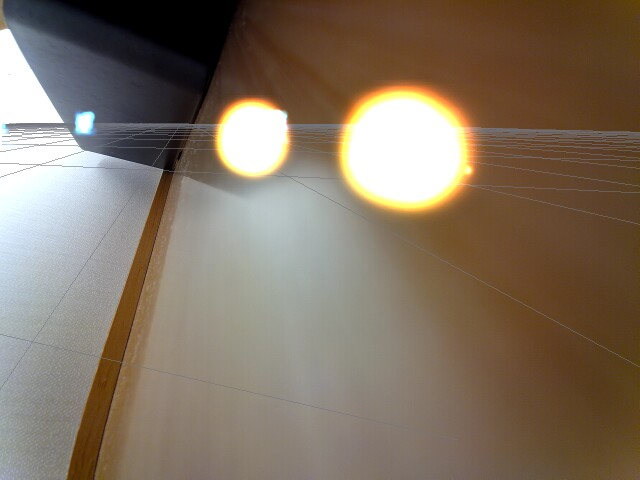firebig: (329, 78, 483, 223)
